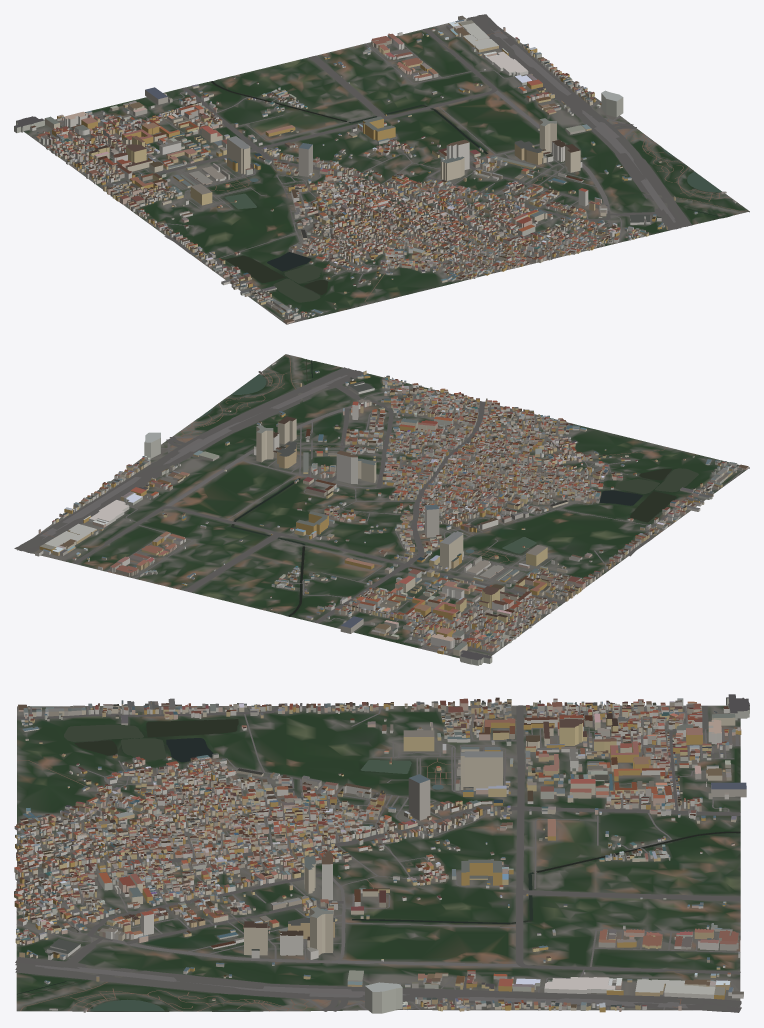
3 renders of one model, top to bottom at view 1: azimuth 30°, elevation 25°; view 2: azimuth 150°, elevation 25°; view 3: azimuth 270°, elevation 25°, orthographic. The views are drawn at different scales.
Parts seen in each view (by area): view 1: ground, buildings, roads, water; view 2: ground, buildings, roads, water; view 3: ground, buildings, roads, water.
Boxes of the visible parts, x1,y1,x2,y2 form: ground: (23,18,749,324); buildings: (14,15,736,323); roads: (31,14,748,320); water: (36,81,728,302); ground: (17,354,749,658); buildings: (35,362,748,665); roads: (14,355,742,655); water: (200,359,698,654); ground: (16,705,740,1011); buildings: (14,694,749,1013); roads: (15,705,741,1012); water: (17,711,740,1011).
Size of the model in its own units: 1436 by 88.58 by 1426.
